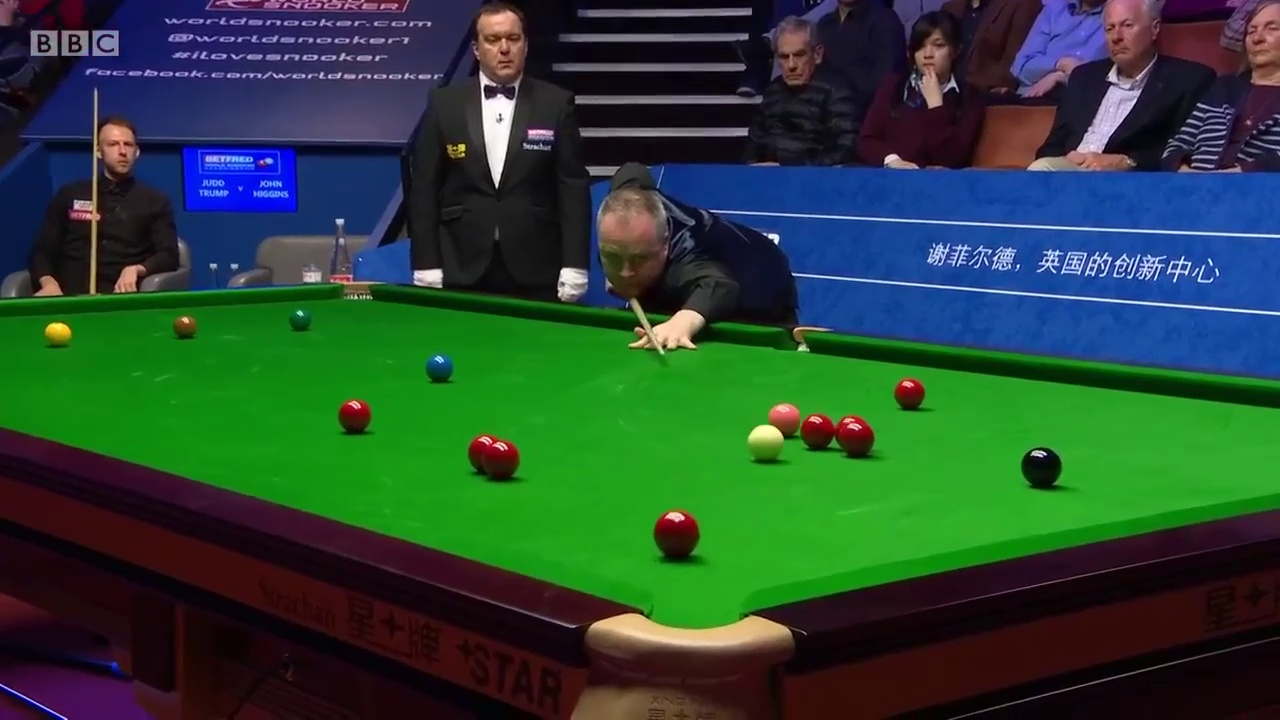ball: (652, 509, 700, 556), (1020, 449, 1061, 485), (339, 396, 371, 436), (481, 443, 516, 477), (748, 425, 782, 460), (894, 375, 926, 409), (424, 353, 452, 380), (43, 319, 72, 343), (172, 313, 196, 335), (289, 307, 308, 327)
